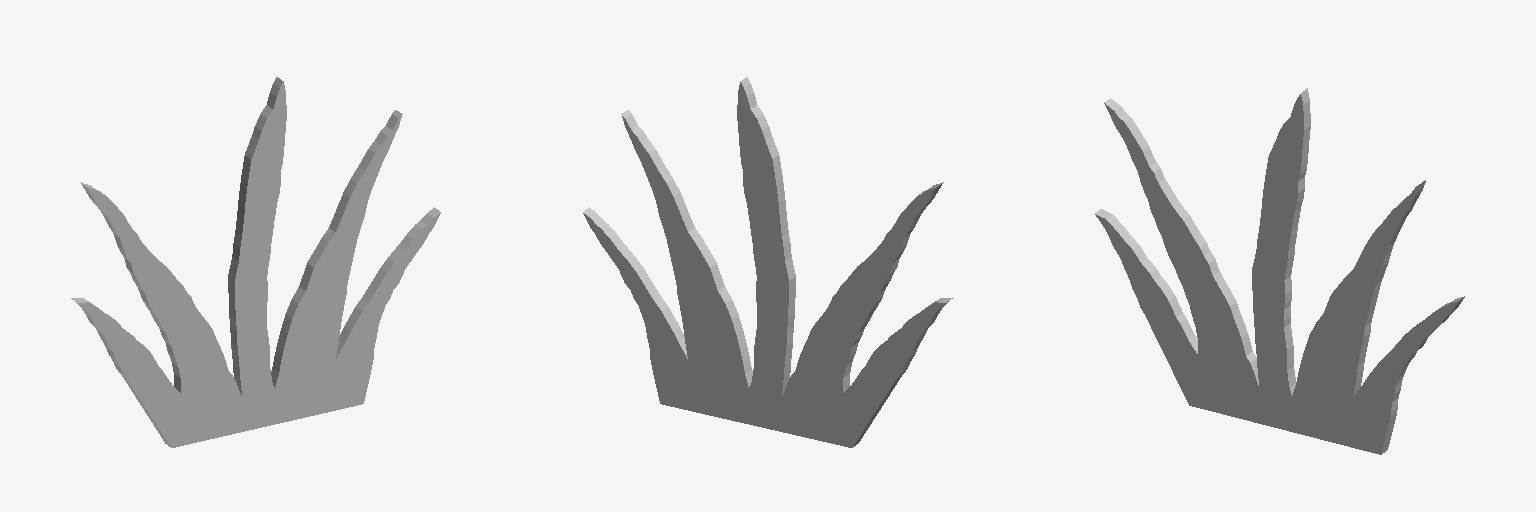
File: pasto.obj
The picture shows the model from 3 angles: view 1: azimuth 30°, elevation 25°; view 2: azimuth 150°, elevation 25°; view 3: azimuth 330°, elevation 25°; orthographic projection.
Visible parts, largest first — view 1: Cube.004; view 2: Cube.004; view 3: Cube.004.
Boxes of the visible parts, <box> form: Cube.004: <box>71,77,440,447</box>; Cube.004: <box>583,77,952,447</box>; Cube.004: <box>1095,88,1464,454</box>.
Bounding box in the file's own units: 8.32 × 7.47 × 0.2681.